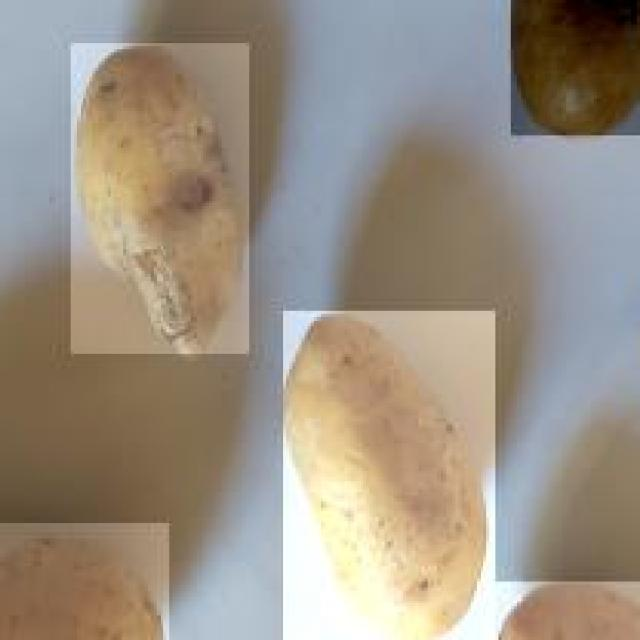potato: (280, 311, 495, 640), (68, 42, 249, 358), (504, 0, 640, 135)
